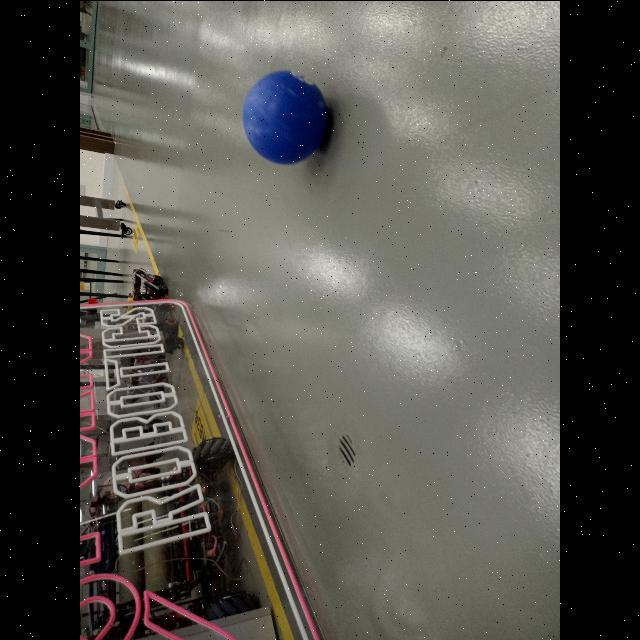B: (242, 69, 328, 163)
